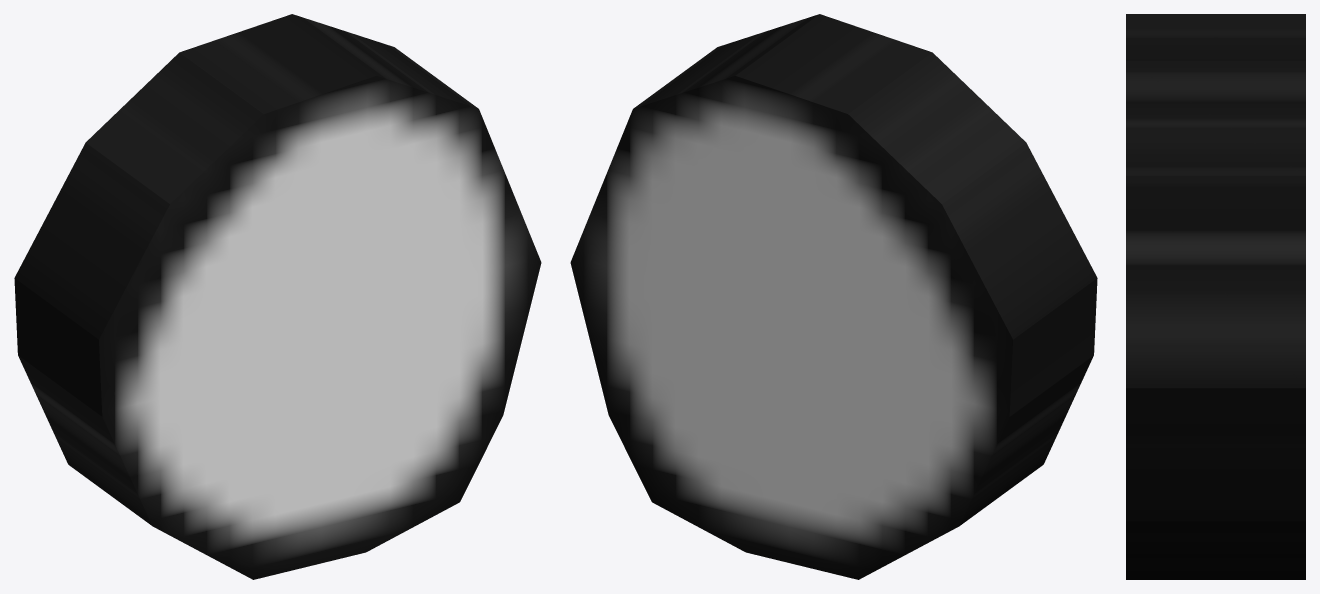
The model's file is Unicorno_Hand.fbx.
3 renders of one model, left to right at view 1: azimuth 30°, elevation 25°; view 2: azimuth 150°, elevation 25°; view 3: azimuth 270°, elevation 25°, orthographic. The views are drawn at different scales.
Visible parts, largest first — view 1: polySurface50; view 2: polySurface50; view 3: polySurface50.
Part boxes in pixels (x1=…): polySurface50: x1=14, y1=14, x2=541, y2=579; polySurface50: x1=570, y1=14, x2=1097, y2=579; polySurface50: x1=1126, y1=14, x2=1305, y2=579.
Size of the model in its own units: 0.1174 by 0.1201 by 0.0388.
